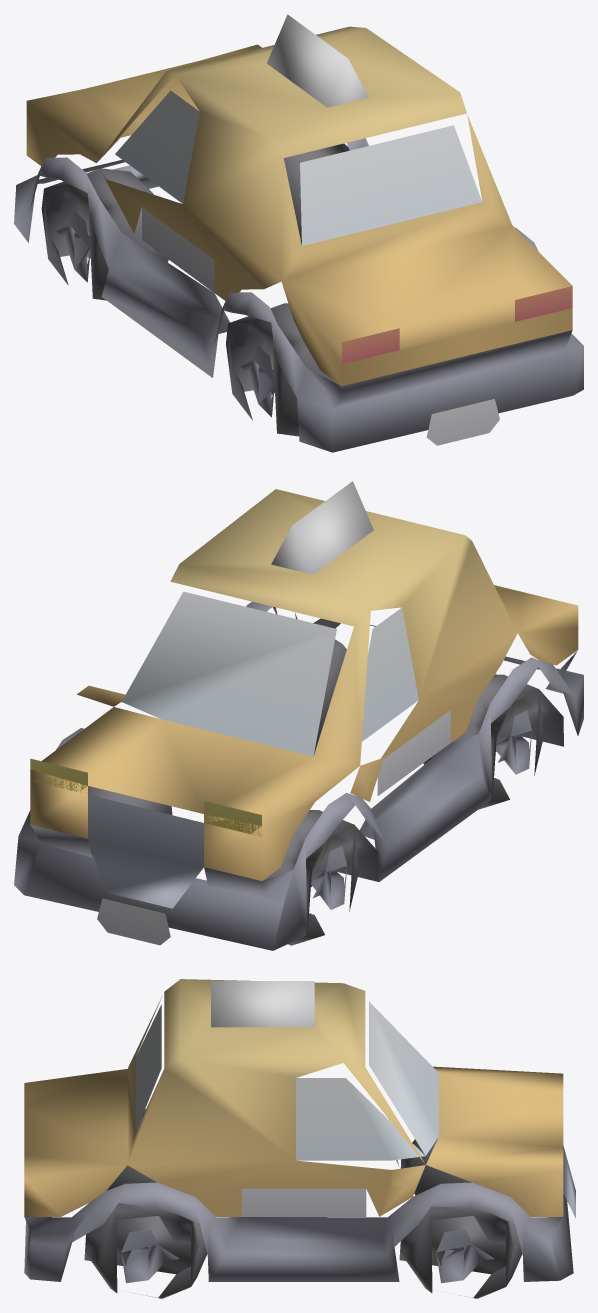
The model's file is car_taxi_lod1.glb.
3 renders of one model, top to bottom at view 1: azimuth 30°, elevation 25°; view 2: azimuth 150°, elevation 25°; view 3: azimuth 270°, elevation 25°, orthographic. The views are drawn at different scales.
Bounding box in the file's own units: 2.1 × 2.22 × 4.12.
